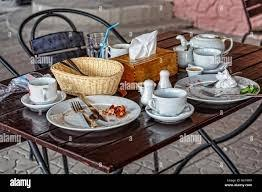Messy Table: (0, 19, 262, 175)
